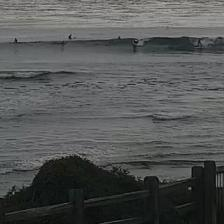surfer: (198, 39, 202, 48), (59, 41, 67, 44), (133, 40, 138, 44), (14, 38, 18, 42), (68, 34, 72, 38), (118, 36, 121, 39)
